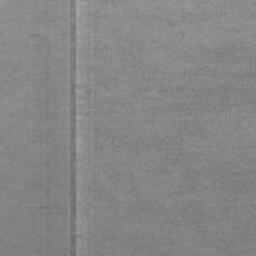Welding line: (67, 0, 78, 256)
